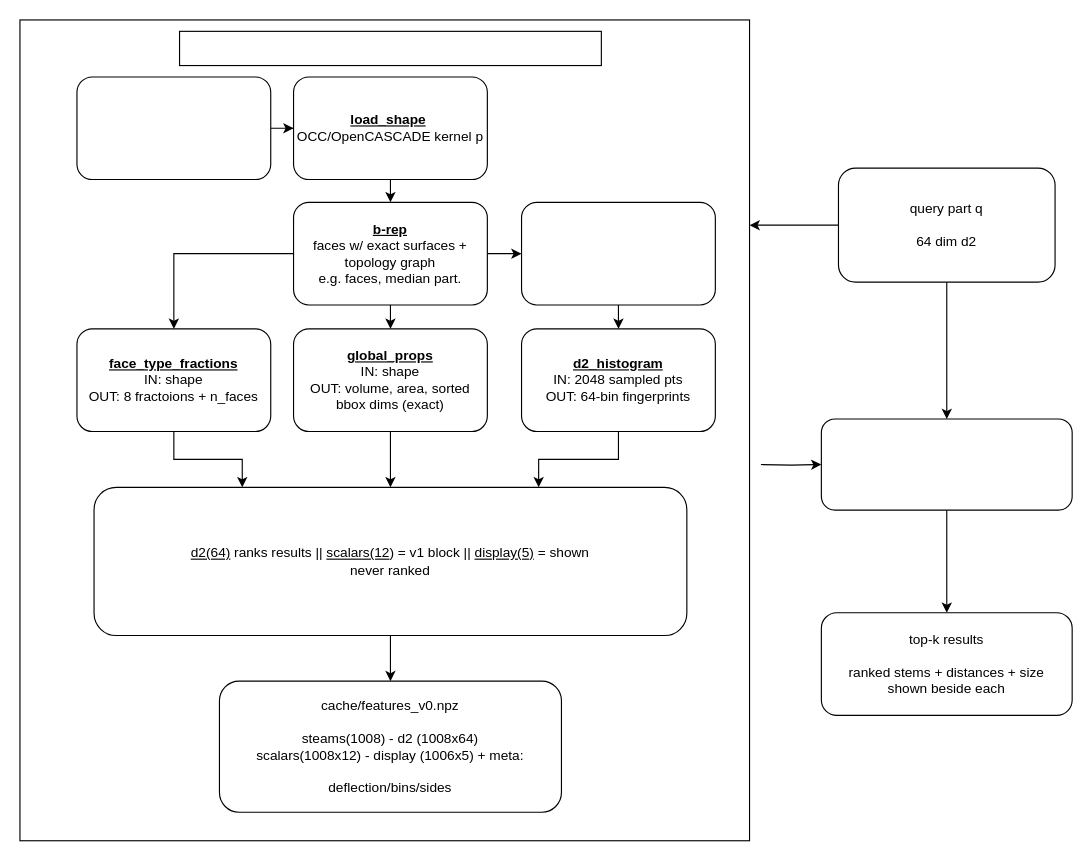
Image size: 1092x861. Some labels were removed from this diagram. Each missing label, with the box of its shape:
extract_part: (178, 30, 601, 66)
L2 + argsort d(q, all 1008) sort ascending return k smallest: (820, 418, 1072, 510)
part.stp text file, ~19 KB exact b-rep (ISO STEP format): (76, 76, 271, 180)
shape_to_trimesh IN: shape, deflection 0.1 OUT: triangle mec: (520, 201, 715, 305)
